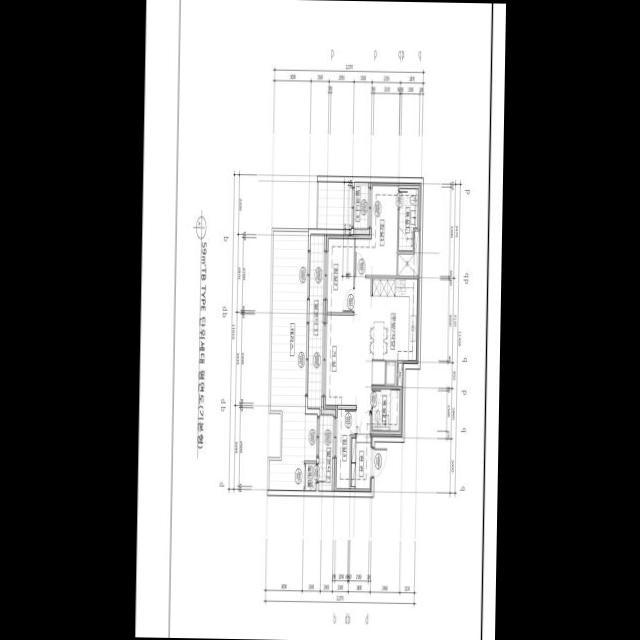background: (134, 0, 506, 640)
space_balconi: (307, 234, 323, 410), (318, 414, 332, 490), (353, 182, 367, 229)
space_bedroom: (354, 182, 397, 275), (325, 234, 353, 312), (334, 409, 354, 491)
space_kitchen: (368, 278, 418, 385), (350, 434, 371, 491)
space_living_room: (323, 277, 371, 434)
space_other: (397, 231, 419, 276), (397, 363, 402, 386)
space_outdoor_room: (304, 463, 316, 490)
space_toilet: (398, 188, 418, 251), (371, 388, 400, 431)
